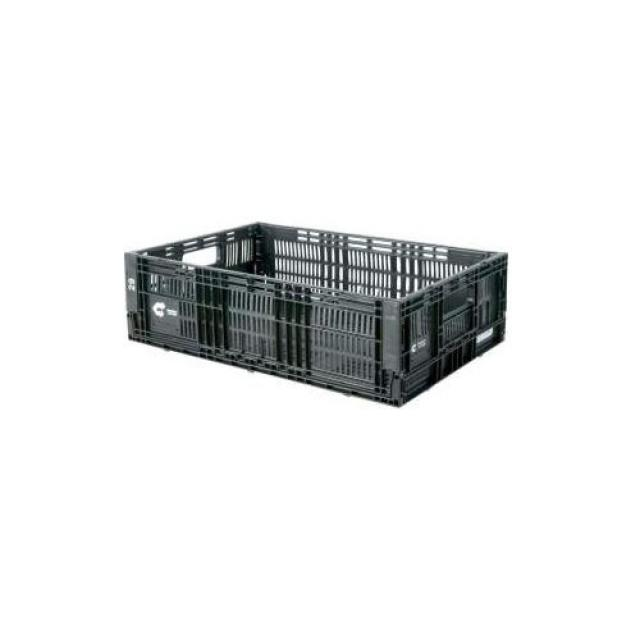basket: (112, 210, 515, 416)
